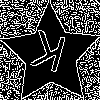K: (25, 29, 69, 83)
